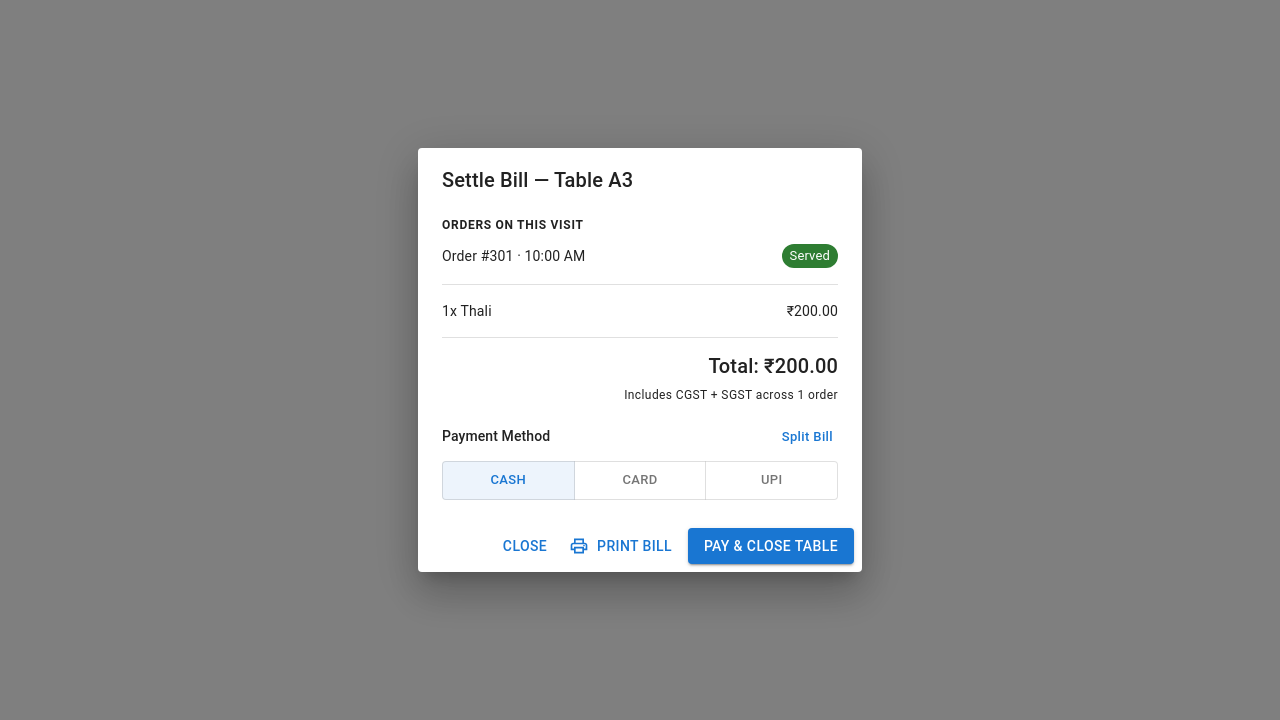
Scenario: SettleBillDialog - split bill › turning Split Bill back off restores the normal payment method selector
Expected: the heading "Total: ₹200.00" is shown, [709, 354, 838, 378]
Click the button "Split Bill" at [807, 437], box [777, 422, 838, 453]
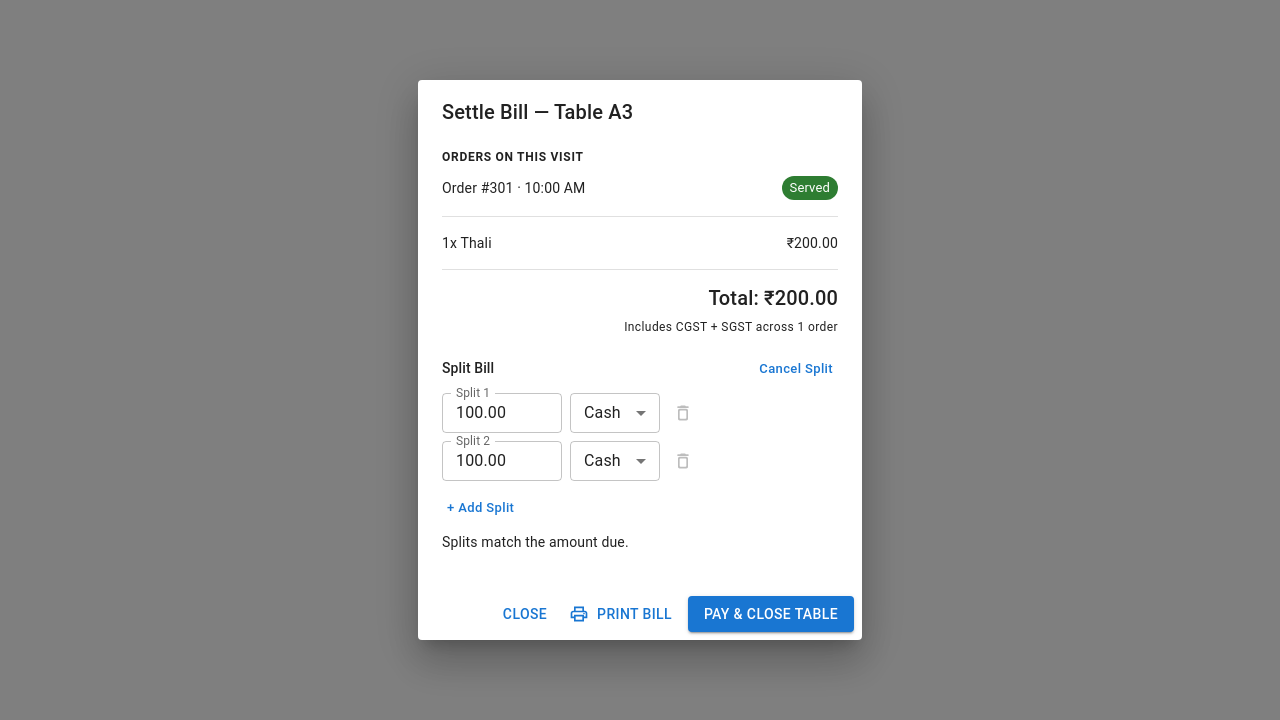
Expected: the number field labelled "Split 1" is shown, [442, 393, 562, 433]
Click the button "Cancel Split" at [796, 369], box [754, 354, 838, 385]
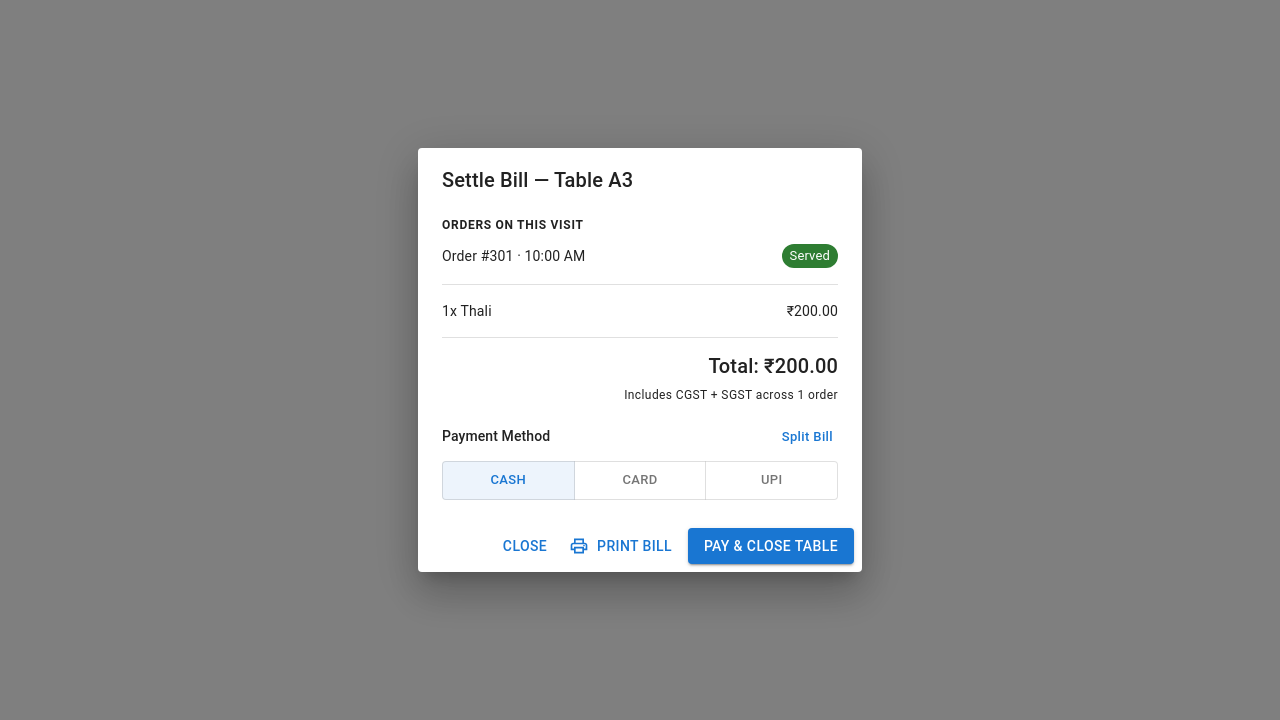
Expected: the label labelled "Split 1" is gone
Expected: the button "Cash" is shown, [442, 461, 575, 500]
